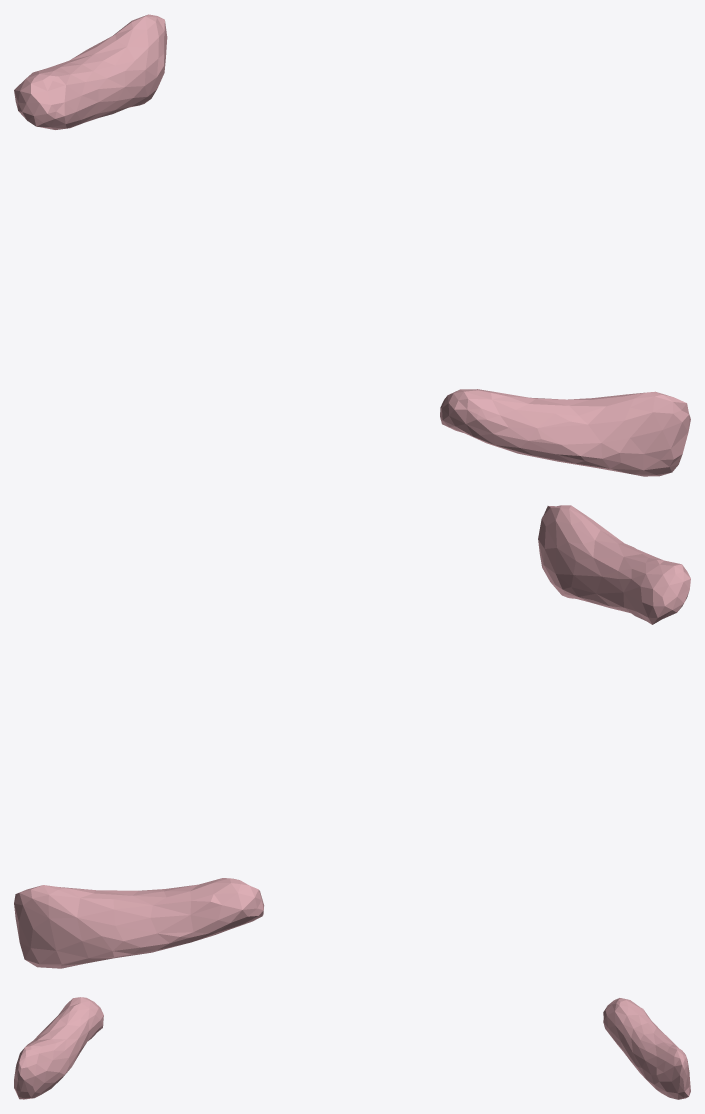
3 views of the same model, one above another, from view 1: azimuth 30°, elevation 25°; view 2: azimuth 150°, elevation 25°; view 3: azimuth 270°, elevation 25° (orthographic). The views are drawn at different scales.
Parts seen in each view (by area): view 1: 325.obj; view 2: 325.obj; view 3: 325.obj.
Boxes of the visible parts, left/top/right/bottom form: 325.obj: left=14, top=14, right=690, bottom=476; 325.obj: left=14, top=505, right=690, bottom=968; 325.obj: left=14, top=997, right=690, bottom=1099.
Size of the model in its own units: 982 by 431 by 4665.
